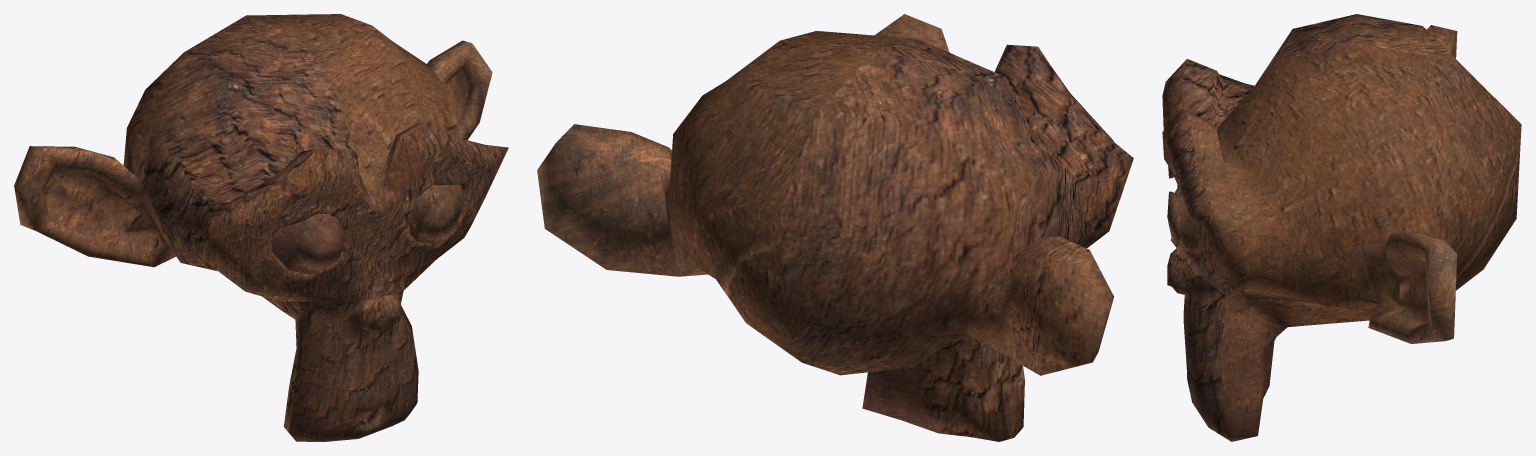
The model's file is suzanne.obj.
3 renders of one model, left to right at view 1: azimuth 30°, elevation 25°; view 2: azimuth 150°, elevation 25°; view 3: azimuth 270°, elevation 25°, orthographic. The views are drawn at different scales.
Visible parts, largest first — view 1: suzanne; view 2: suzanne; view 3: suzanne.
Boxes of the visible parts, left/top/right/bottom form: suzanne: left=14, top=14, right=508, bottom=441; suzanne: left=537, top=14, right=1133, bottom=441; suzanne: left=1162, top=14, right=1521, bottom=441.
Bounding box in the file's own units: 2.73 × 1.97 × 1.7.
